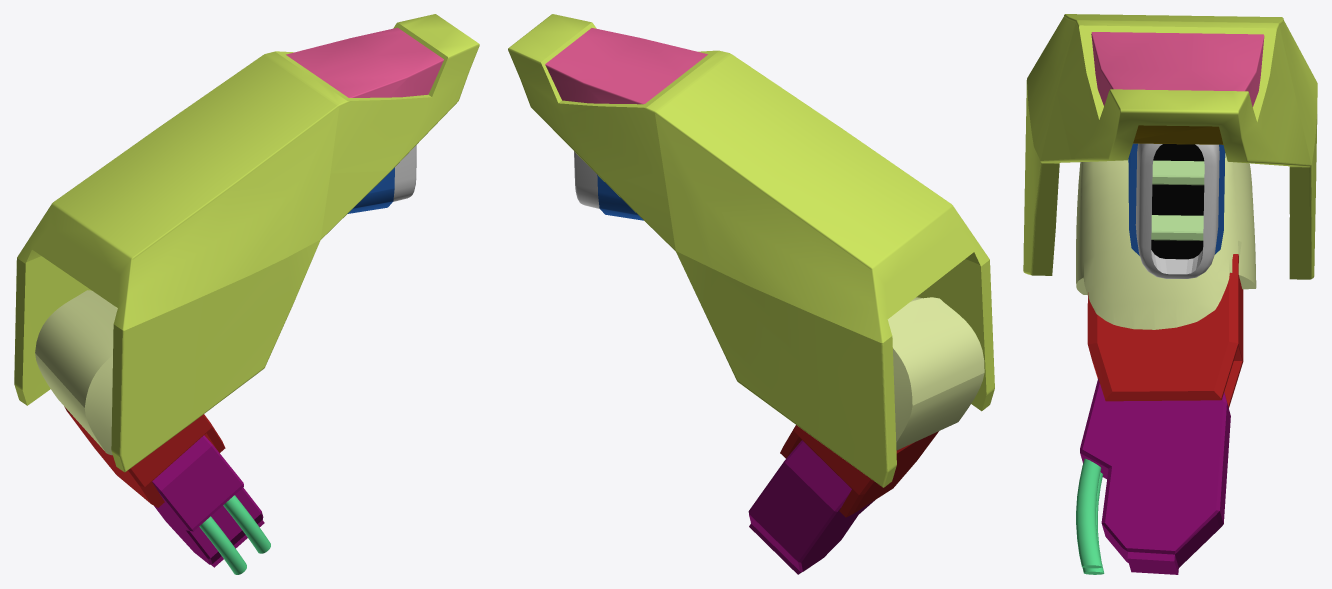
The model's file is right_arm.obj.
The picture shows the model from 3 angles, left to right: view 1: azimuth 30°, elevation 25°; view 2: azimuth 150°, elevation 25°; view 3: azimuth 270°, elevation 25°; orthographic projection. The views are drawn at different scales.
Parts seen in each view (by area): view 1: right_arm freedom:ChafCaja1112, right_arm freedom:Caja430, right_arm freedom:ChafCaja1116, right_arm freedom:ChafCaja1023, right_arm freedom:Caja427, freedom:Cilindro38 right_arm, right_arm freedom:Cilindro37, right_arm freedom:ChafCaja1113, right_arm freedom:ChafCaja1114; view 2: right_arm freedom:ChafCaja1112, right_arm freedom:Caja430, right_arm freedom:ChafCaja1023, right_arm freedom:ChafCaja1116, right_arm freedom:Caja427, right_arm freedom:ChafCaja1113, right_arm freedom:ChafCaja1114; view 3: right_arm freedom:ChafCaja1112, right_arm freedom:ChafCaja1023, right_arm freedom:Caja430, right_arm freedom:Caja427, right_arm freedom:ChafCaja1116, right_arm freedom:ChafCaja1113, right_arm freedom:Cilindro37, right_arm freedom:ChafCaja1115, right_arm freedom:ChafCaja1114, right_arm freedom:Caja486, right_arm freedom:Caja487.
Boxes of the visible parts, bbox=[...] form: right_arm freedom:ChafCaja1112: bbox=[14, 14, 479, 472]; right_arm freedom:Caja430: bbox=[35, 290, 117, 455]; right_arm freedom:ChafCaja1116: bbox=[286, 27, 443, 97]; right_arm freedom:ChafCaja1023: bbox=[152, 435, 264, 567]; right_arm freedom:Caja427: bbox=[64, 406, 225, 507]; freedom:Cilindro38 right_arm: bbox=[199, 516, 246, 574]; right_arm freedom:Cilindro37: bbox=[223, 495, 270, 553]; right_arm freedom:ChafCaja1113: bbox=[393, 145, 416, 201]; right_arm freedom:ChafCaja1114: bbox=[348, 167, 394, 213]; right_arm freedom:ChafCaja1112: bbox=[508, 14, 994, 487]; right_arm freedom:Caja430: bbox=[887, 297, 984, 450]; right_arm freedom:ChafCaja1023: bbox=[748, 440, 874, 574]; right_arm freedom:ChafCaja1116: bbox=[545, 28, 707, 104]; right_arm freedom:Caja427: bbox=[780, 425, 938, 517]; right_arm freedom:ChafCaja1113: bbox=[574, 151, 599, 208]; right_arm freedom:ChafCaja1114: bbox=[597, 175, 643, 220]; right_arm freedom:ChafCaja1112: bbox=[1023, 14, 1317, 279]; right_arm freedom:ChafCaja1023: bbox=[1080, 378, 1230, 574]; right_arm freedom:Caja430: bbox=[1076, 153, 1256, 329]; right_arm freedom:Caja427: bbox=[1087, 254, 1243, 407]; right_arm freedom:ChafCaja1116: bbox=[1091, 32, 1264, 106]; right_arm freedom:ChafCaja1113: bbox=[1135, 143, 1219, 278]; right_arm freedom:Cilindro37: bbox=[1076, 458, 1102, 568]; right_arm freedom:ChafCaja1115: bbox=[1133, 125, 1223, 144]; right_arm freedom:ChafCaja1114: bbox=[1128, 143, 1225, 255]; right_arm freedom:Caja486: bbox=[1151, 215, 1203, 240]; right_arm freedom:Caja487: bbox=[1152, 160, 1204, 185].
Size of the model in its own units: 31.53 by 34.38 by 14.33.
